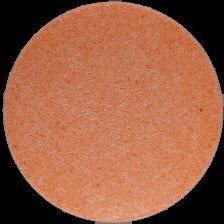43353-124: (0, 0, 224, 224)
